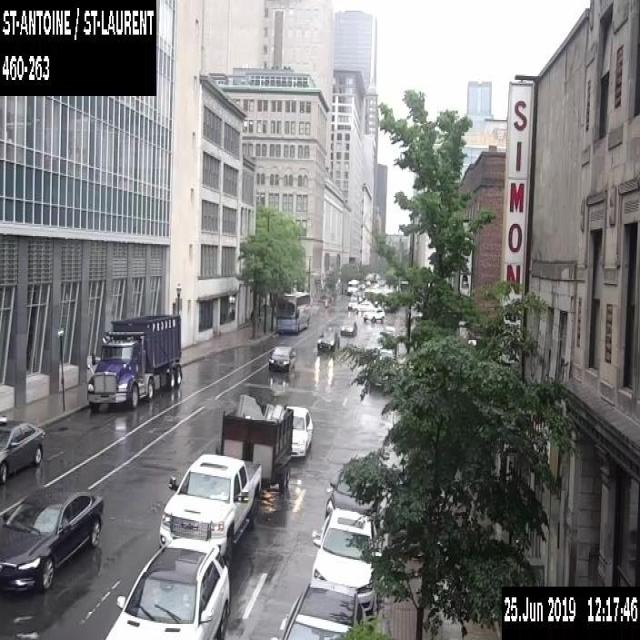bus: (274, 290, 310, 333)
vehicle: (159, 392, 293, 559), (104, 536, 229, 639), (0, 486, 105, 598), (85, 313, 182, 411), (311, 507, 381, 612), (270, 577, 367, 639), (324, 461, 381, 527), (0, 416, 46, 486), (285, 404, 312, 456), (370, 346, 394, 386), (268, 344, 296, 372), (316, 328, 339, 352), (363, 306, 384, 323), (340, 318, 356, 336), (346, 278, 360, 293), (348, 298, 358, 309), (360, 300, 370, 311), (384, 324, 395, 334), (353, 290, 362, 301), (349, 293, 358, 301), (359, 288, 365, 298)
